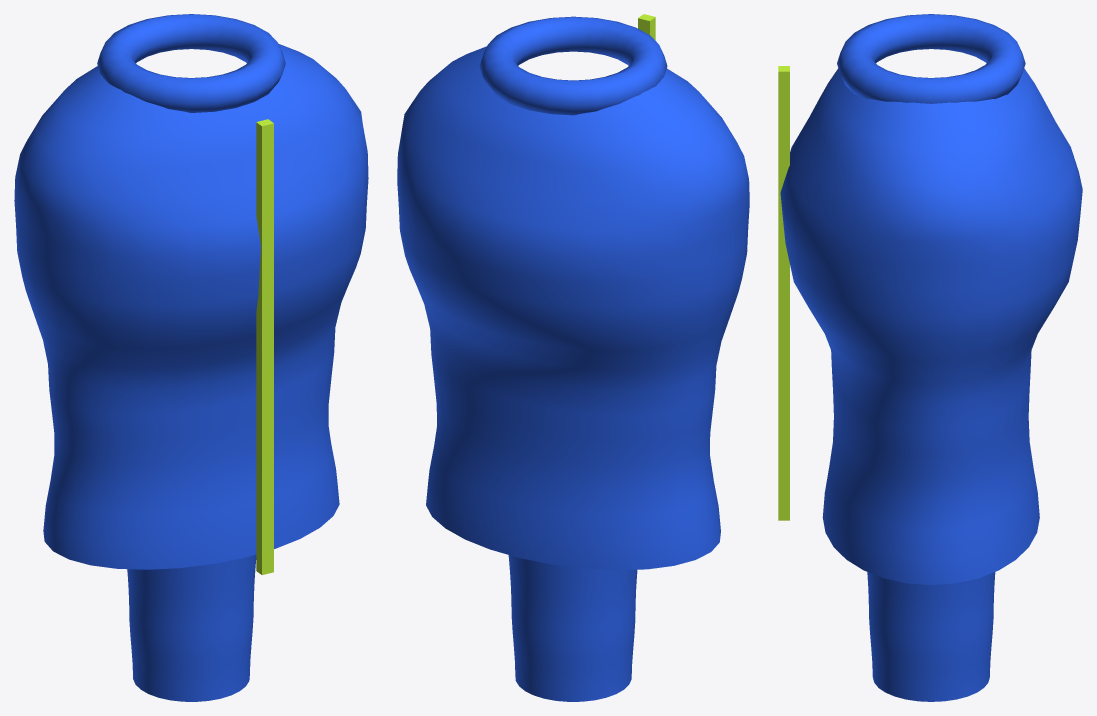
File: top_jacket_female.glb
3 views of the same model, side by side, from view 1: azimuth 30°, elevation 25°; view 2: azimuth 150°, elevation 25°; view 3: azimuth 270°, elevation 25° (orthographic).
Visible parts, largest first — view 1: shirt, sleeve, collar, zip; view 2: shirt, sleeve, collar; view 3: shirt, sleeve, collar, zip.
Boxes of the visible parts, x1,y1,x2,y2 form: shirt: [14, 43, 368, 569]; sleeve: [127, 554, 256, 701]; collar: [97, 14, 285, 112]; zip: [256, 119, 273, 574]; shirt: [397, 46, 749, 570]; sleeve: [508, 555, 637, 701]; collar: [479, 16, 667, 115]; shirt: [780, 68, 1082, 584]; sleeve: [867, 572, 995, 701]; collar: [837, 14, 1025, 103]; zip: [778, 66, 789, 520].
Size of the model in its own units: 0.3194 by 0.5971 by 0.2614.
